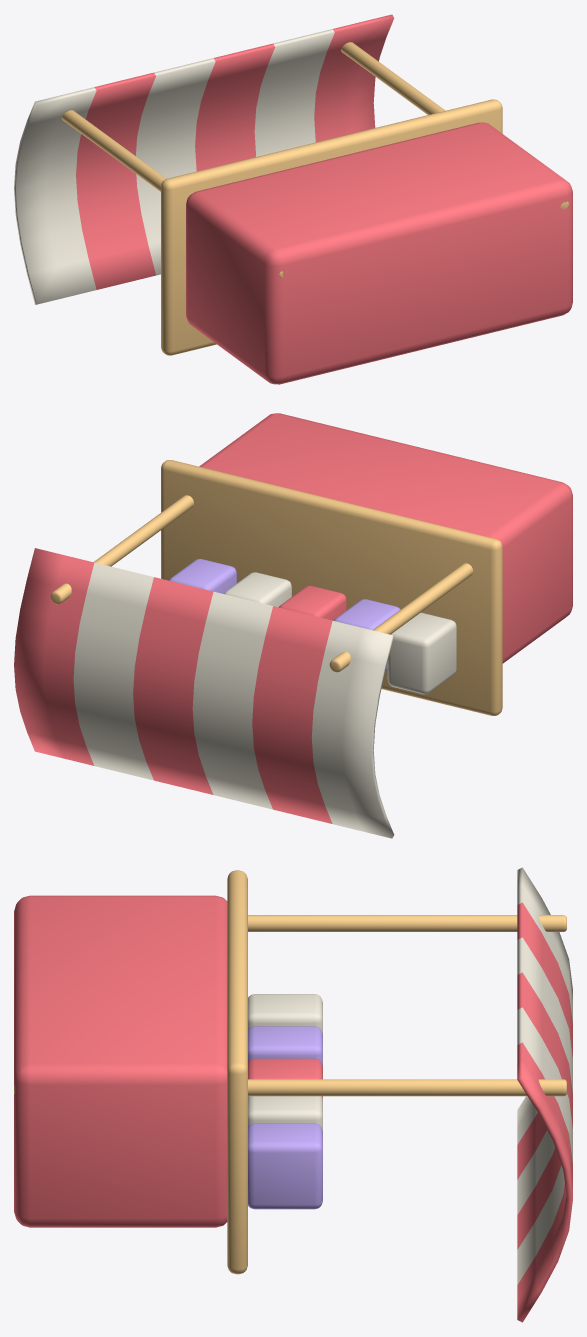
The model's file is BoulevardLandmark2.fbx.
The picture shows the model from 3 angles, top to bottom: view 1: azimuth 30°, elevation 25°; view 2: azimuth 150°, elevation 25°; view 3: azimuth 270°, elevation 25°; orthographic projection. The views are drawn at different scales.
Visible parts, largest first — view 1: BoulevardLandmark2; view 2: BoulevardLandmark2; view 3: BoulevardLandmark2.
Boxes of the visible parts, x1,y1,x2,y2 form: BoulevardLandmark2: (14,14,572,384); BoulevardLandmark2: (14,413,572,838); BoulevardLandmark2: (14,867,572,1322).
Size of the model in its own units: 1.69 by 0.94 by 1.9.
